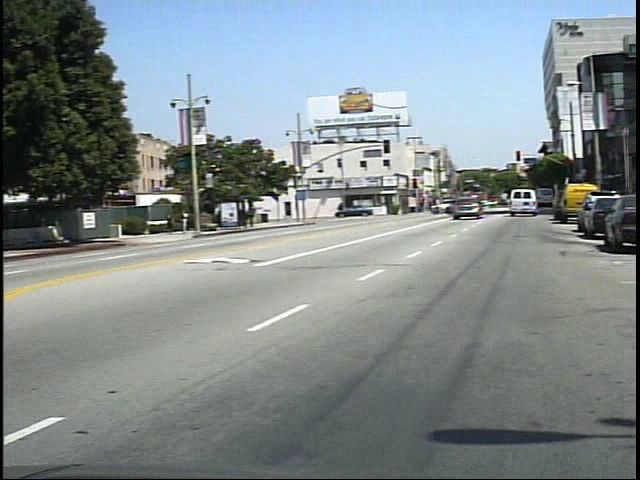person: (186, 207, 202, 236), (172, 211, 186, 237), (345, 201, 355, 212)
